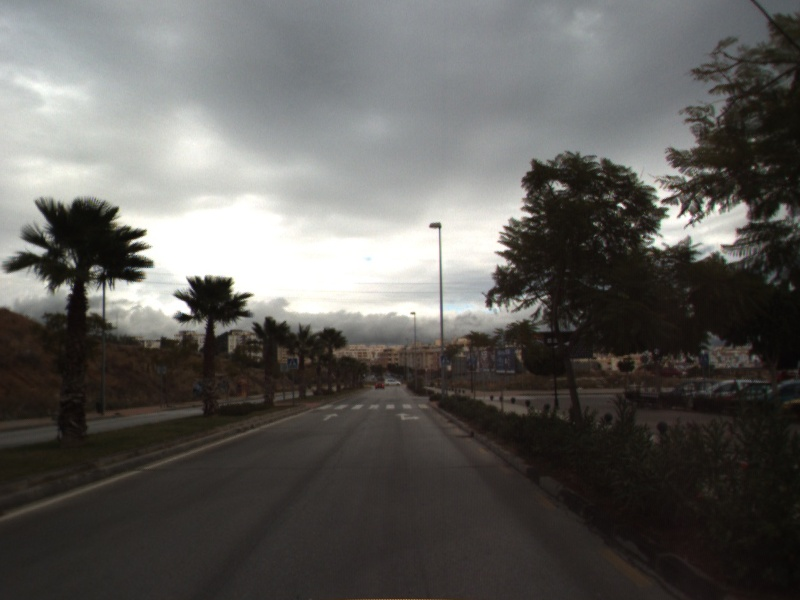STRAIGHT: (321, 411, 340, 423)
STRAIGHT_RIGHT: (394, 411, 422, 422)
